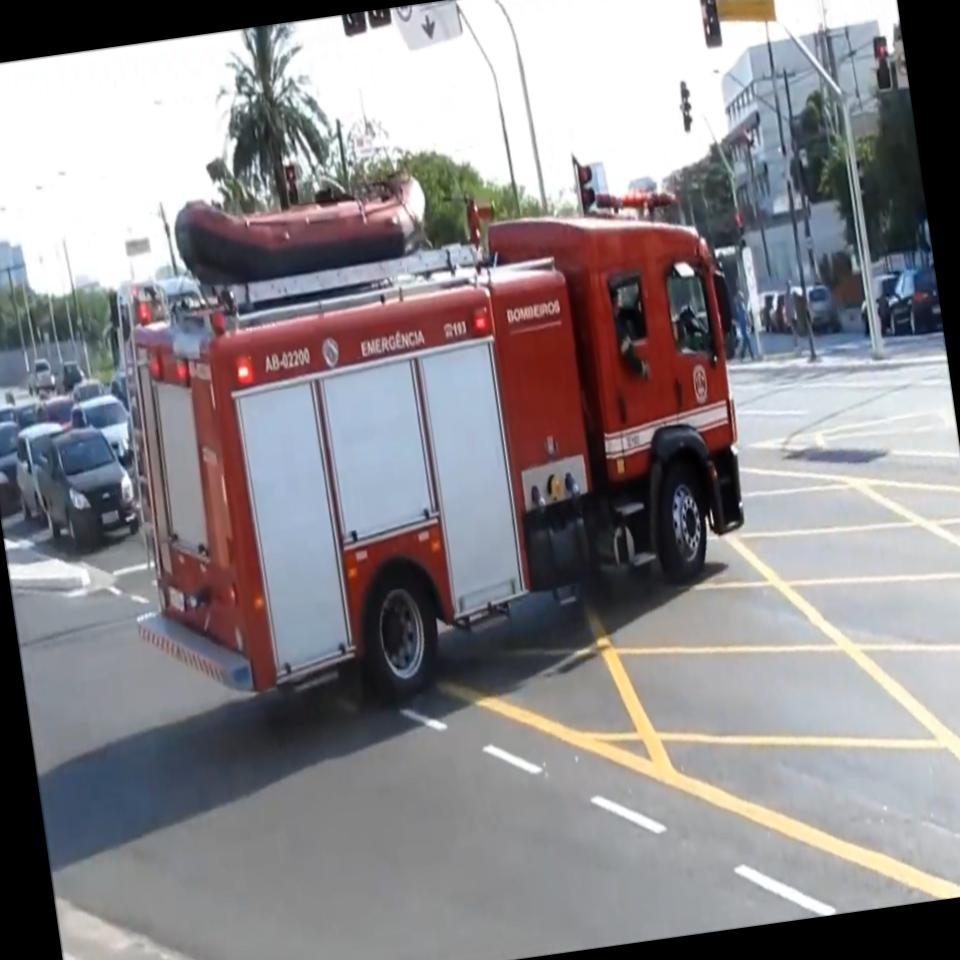viatura: (81, 122, 788, 759)
